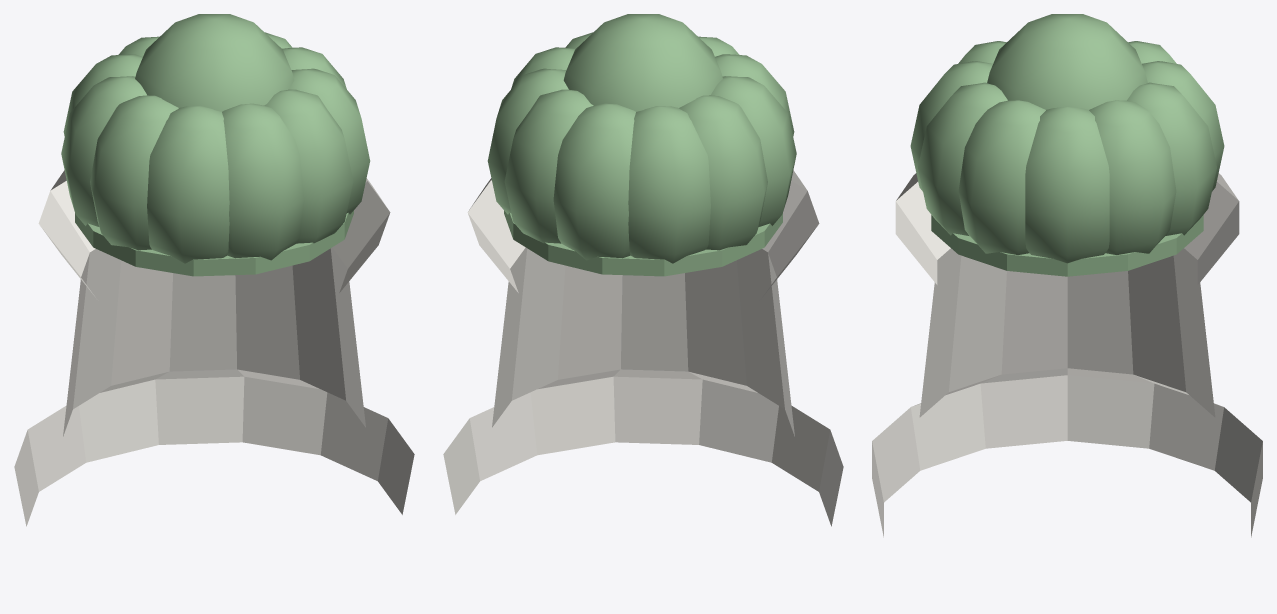
File: mythic-underworld-and-olympus-laurel-planter-30ea2849__21390.glb
The picture shows the model from 3 angles, left to right: view 1: azimuth 30°, elevation 25°; view 2: azimuth 150°, elevation 25°; view 3: azimuth 270°, elevation 25°; orthographic projection.
Parts seen in each view (by area): view 1: laurel-planter; view 2: laurel-planter; view 3: laurel-planter.
Part boxes in pixels (<box>): laurel-planter: <box>14,14,414,526</box>; laurel-planter: <box>443,14,843,526</box>; laurel-planter: <box>872,14,1262,537</box>.
Bounding box in the file's own units: 1.32 × 1.82 × 1.29.
